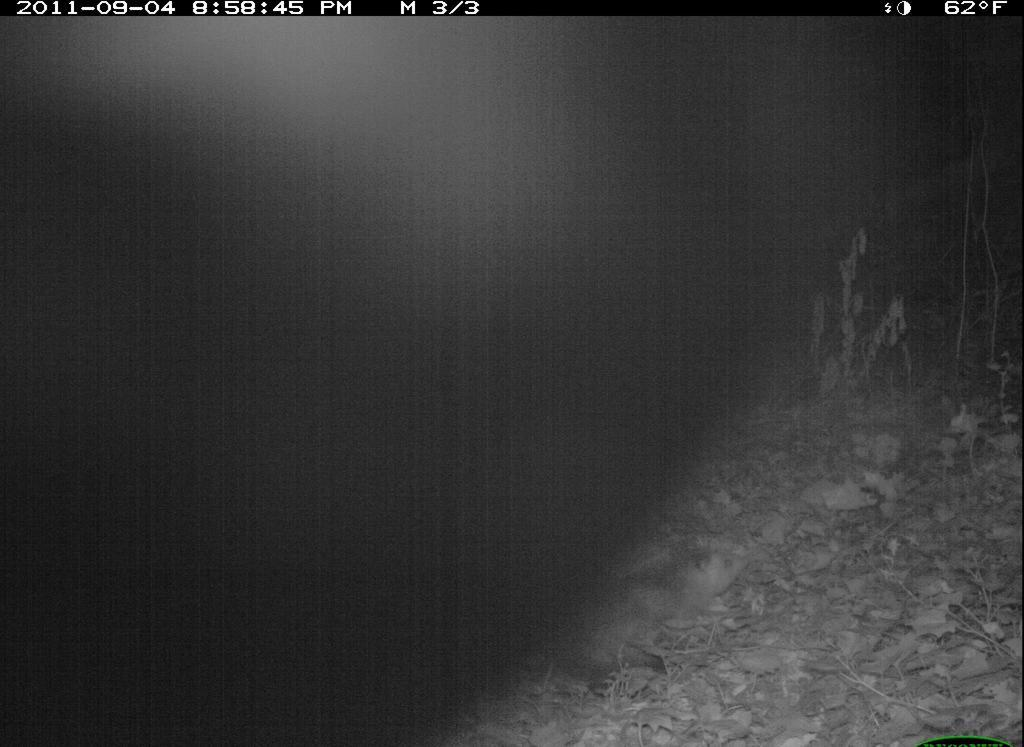opossum: (536, 547, 803, 702)
